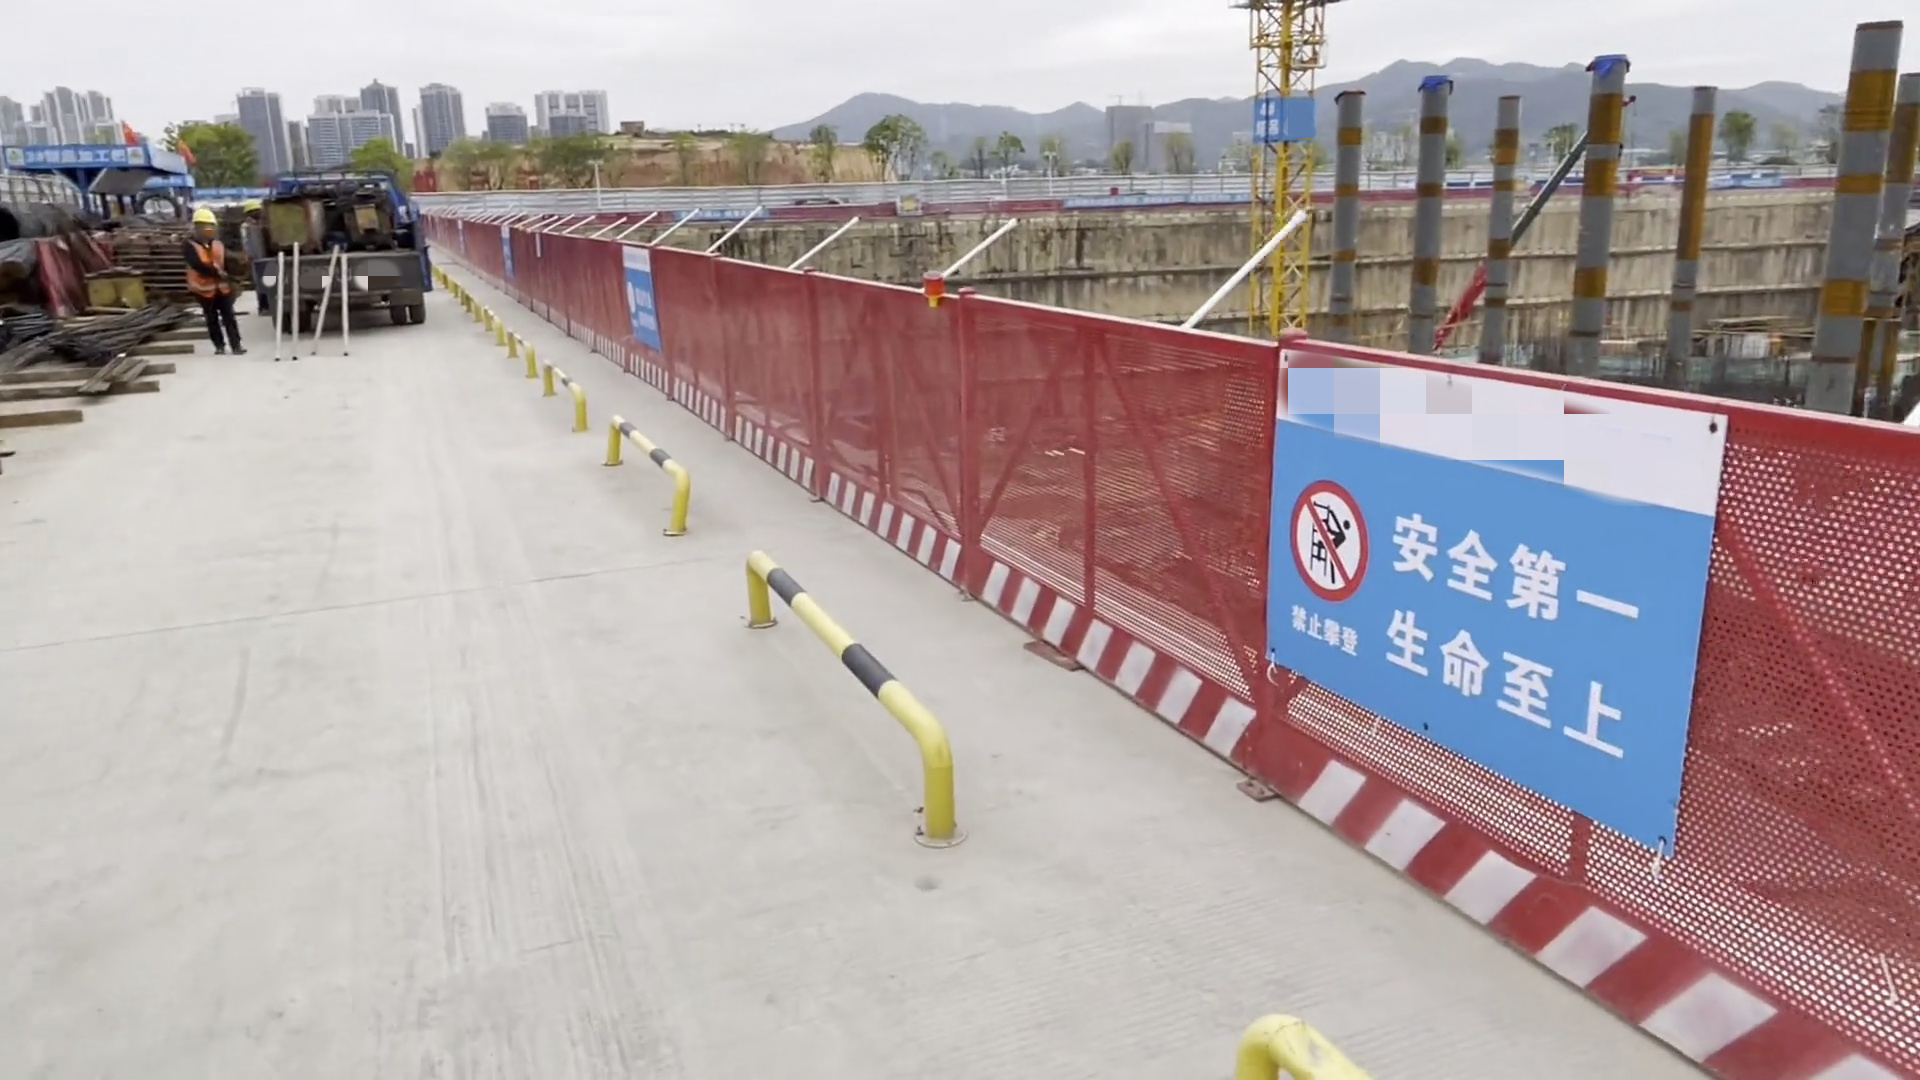ebox: (350, 195, 386, 233)
fence: (726, 308, 1920, 1051), (774, 204, 891, 232)
helmet: (191, 207, 216, 224), (243, 201, 262, 211)
person: (177, 190, 235, 366), (236, 196, 273, 321)
slogan: (1263, 437, 1665, 772), (619, 243, 670, 355), (21, 149, 143, 173), (487, 227, 529, 283), (1251, 97, 1294, 140)
vest: (193, 239, 227, 300), (240, 224, 269, 261)
